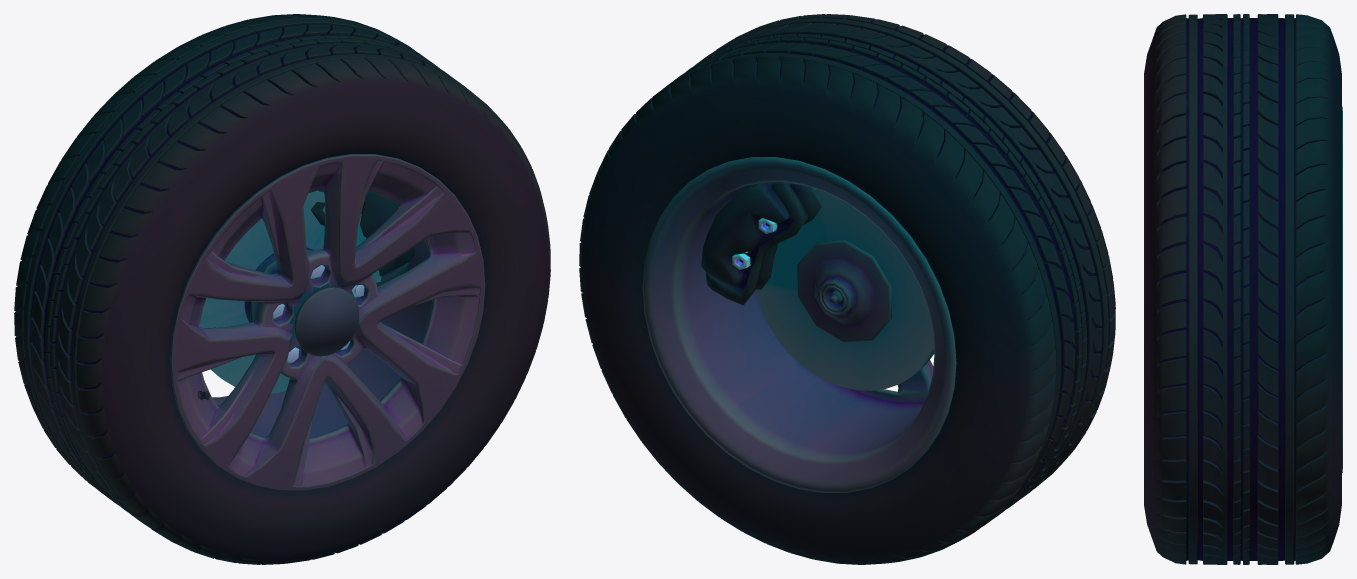
Rendered from wheel_RL.glb.
3 views of the same model, side by side, from view 1: azimuth 30°, elevation 25°; view 2: azimuth 150°, elevation 25°; view 3: azimuth 270°, elevation 25° (orthographic).
Parts seen in each view (by area): view 1: tire_17, rim_second_19, rim_15, brakedisk_16, Blank hub cap.002, black_12; view 2: tire_17, rim_second_19, brakedisk_16, black_12, rim_15; view 3: tire_17, rim_second_19.
Part boxes in pixels (left/top/right/bottom): tire_17: left=14, top=14, right=550, bottom=564; rim_second_19: left=170, top=154, right=479, bottom=486; rim_15: left=171, top=154, right=485, bottom=491; brakedisk_16: left=200, top=190, right=381, bottom=393; Blank hub cap.002: left=294, top=286, right=359, bottom=356; black_12: left=197, top=190, right=414, bottom=400; tire_17: left=579, top=14, right=1115, bottom=564; rim_second_19: left=642, top=157, right=956, bottom=492; brakedisk_16: left=755, top=188, right=934, bottom=390; black_12: left=701, top=182, right=821, bottom=305; rim_15: left=797, top=239, right=933, bottom=366; tire_17: left=1144, top=14, right=1341, bottom=564; rim_second_19: left=1342, top=106, right=1342, bottom=472.
Bounding box in the file's own units: 0.793 × 0.793 × 0.2862.
